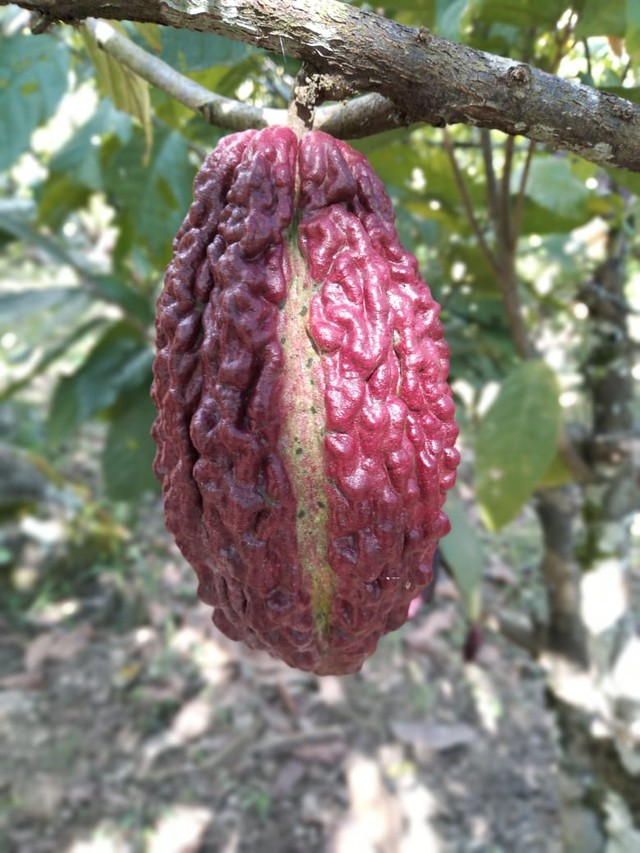Health: (148, 123, 463, 685)
